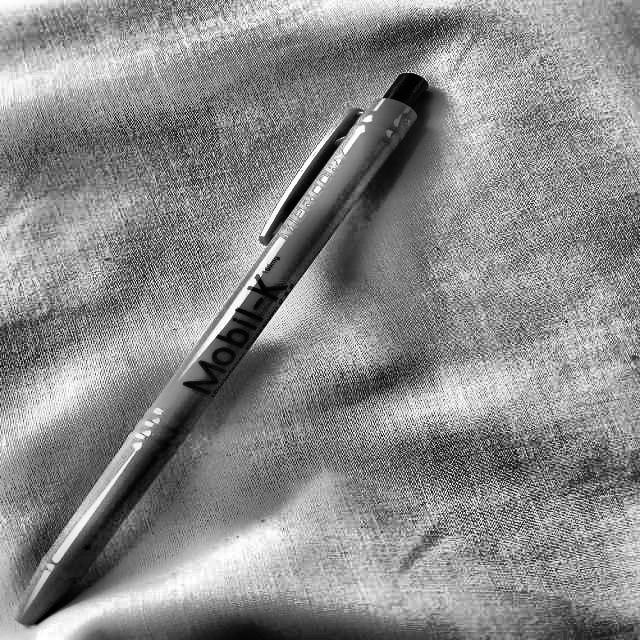Pen: (9, 47, 489, 633)
